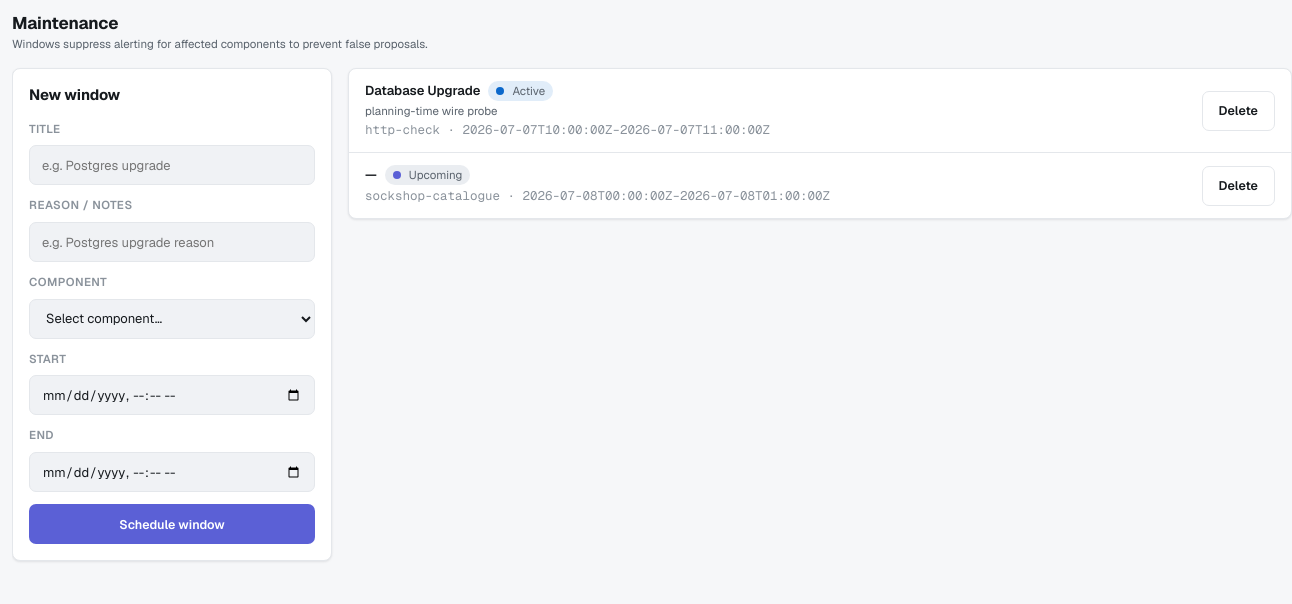
Test: MaintenancePage › renders a naive-starts_at 422 INLINE next to the Start field, not toast/console-only (AC2)
Expected: the text "http-check" is shown, [365,121,440,138]
Select "Sock Shop — frontend" in the dropdown labelled "Component": coordinates (172, 319) [29,299,315,339]
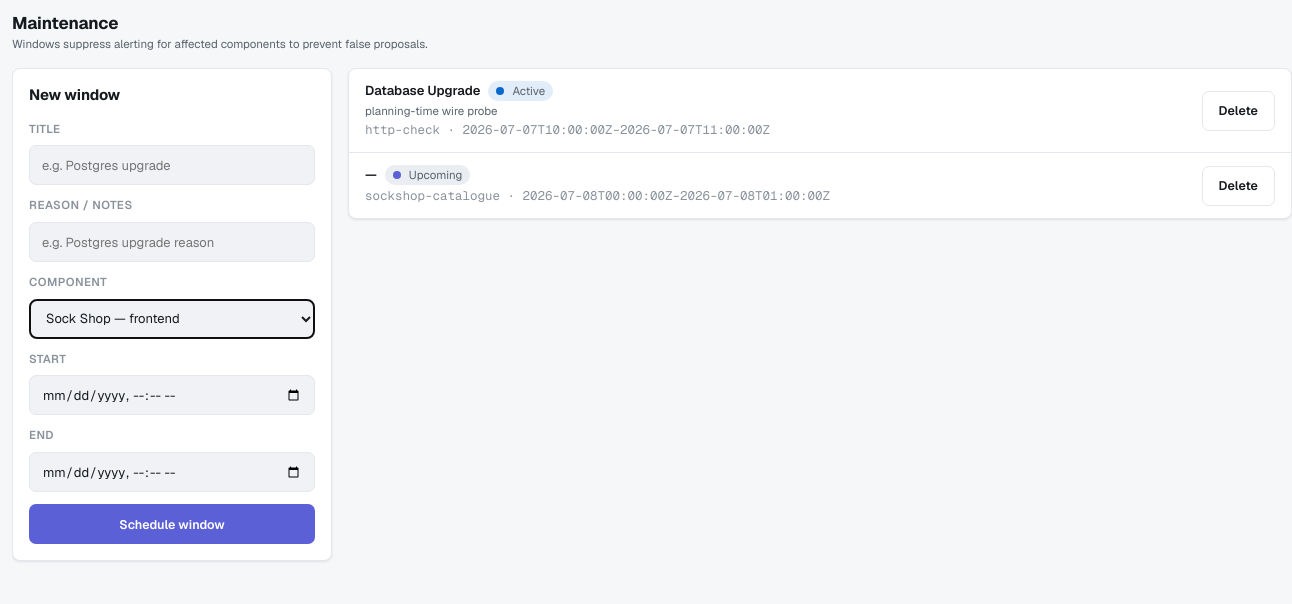
In the field labelled "Start": coordinates (172, 395) [29,375,315,415], type "2026-07-09T09:00"
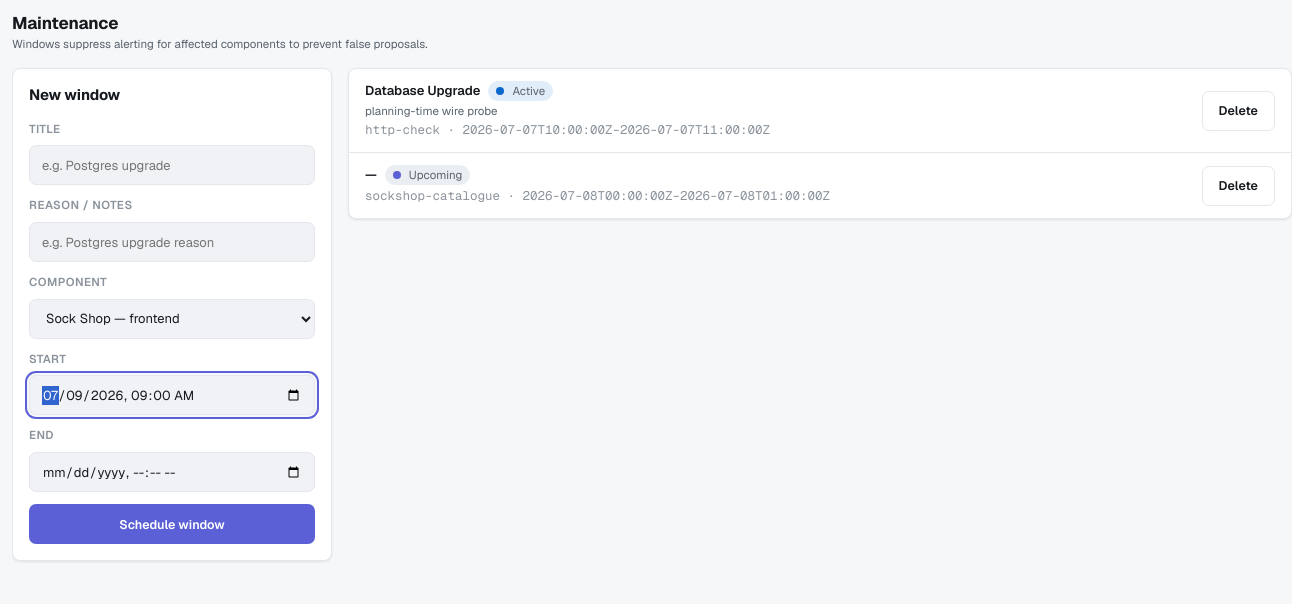
In the field labelled "End": coordinates (172, 472) [29,452,315,492], type "2026-07-09T10:00"
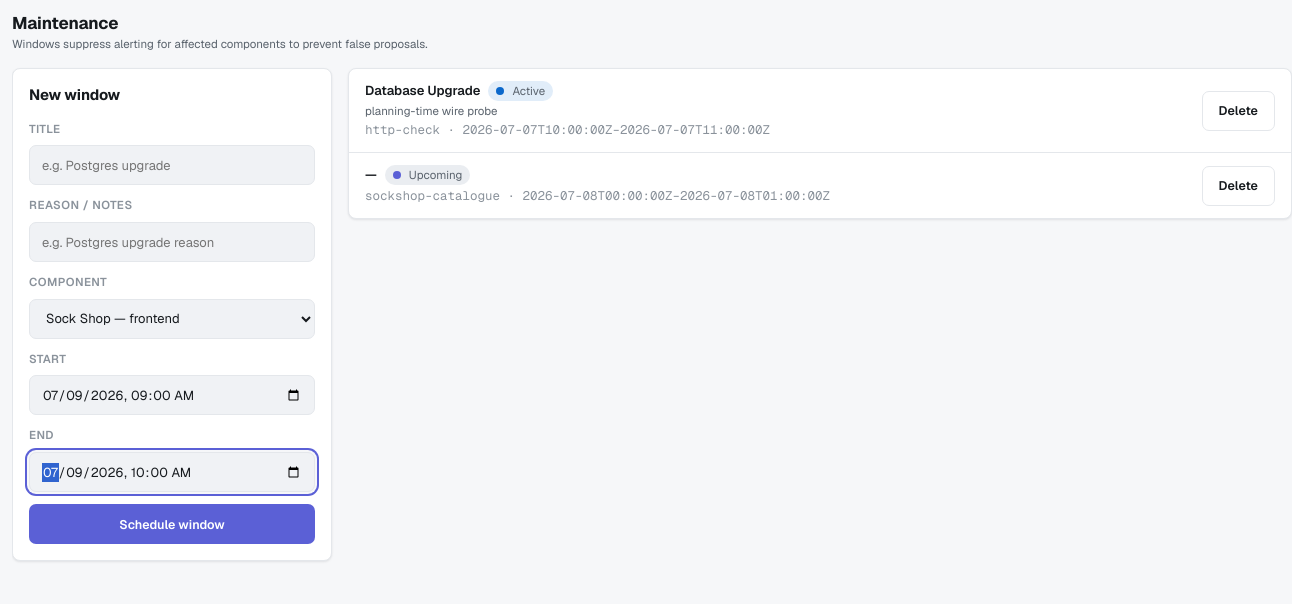
Click the button "Schedule window": coordinates (172, 524) [29,504,315,544]
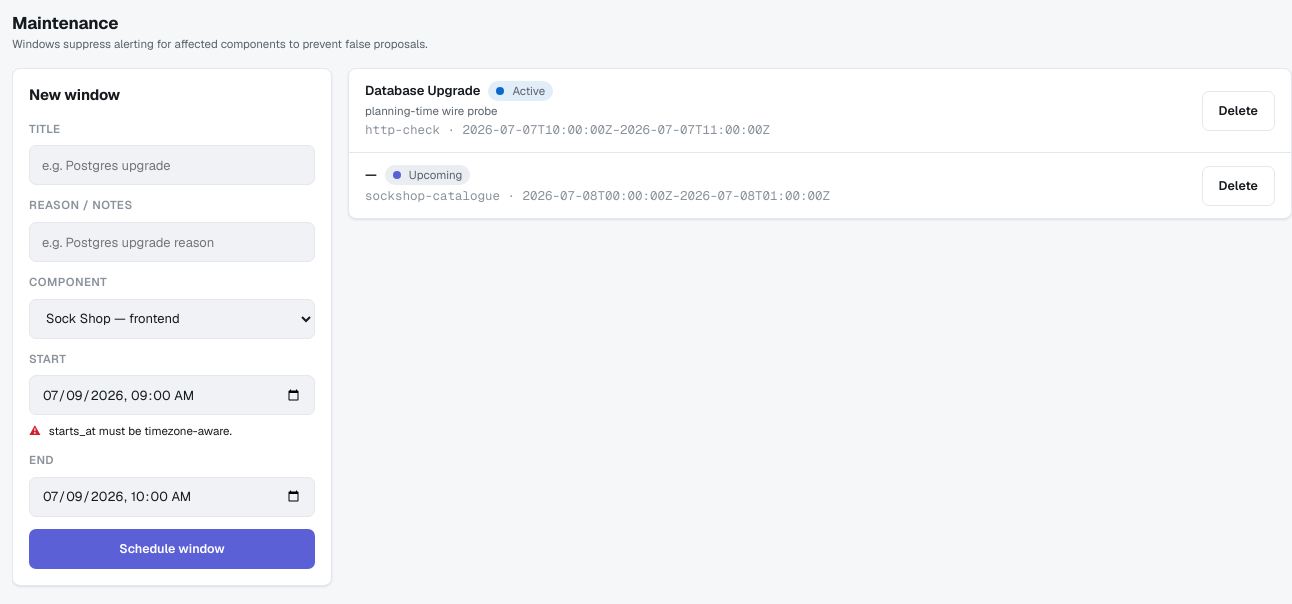
Expected: the element labelled "Start" is shown, [29,351,315,440]
Result: the text "starts_at must be timezone-aware." is shown at [49,423,232,438]
